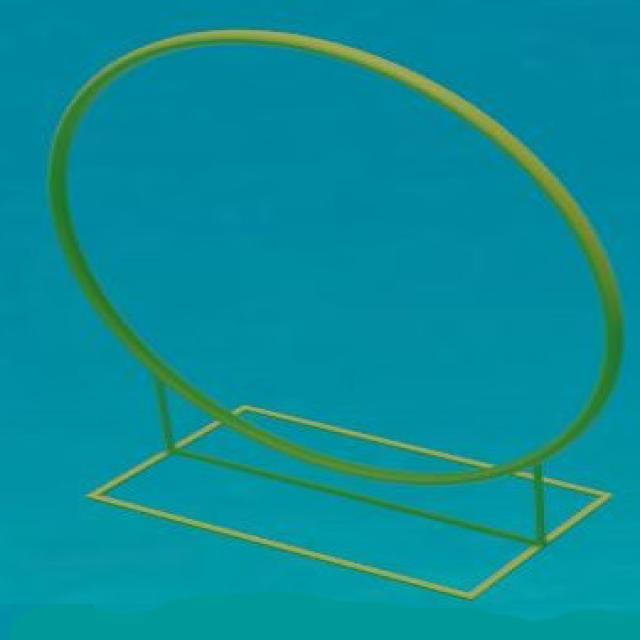Circle: (57, 34, 625, 486)
